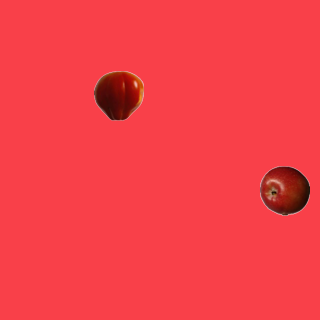Apple Braeburn: (259, 165, 309, 215)
Tomato 1: (93, 70, 143, 120)
